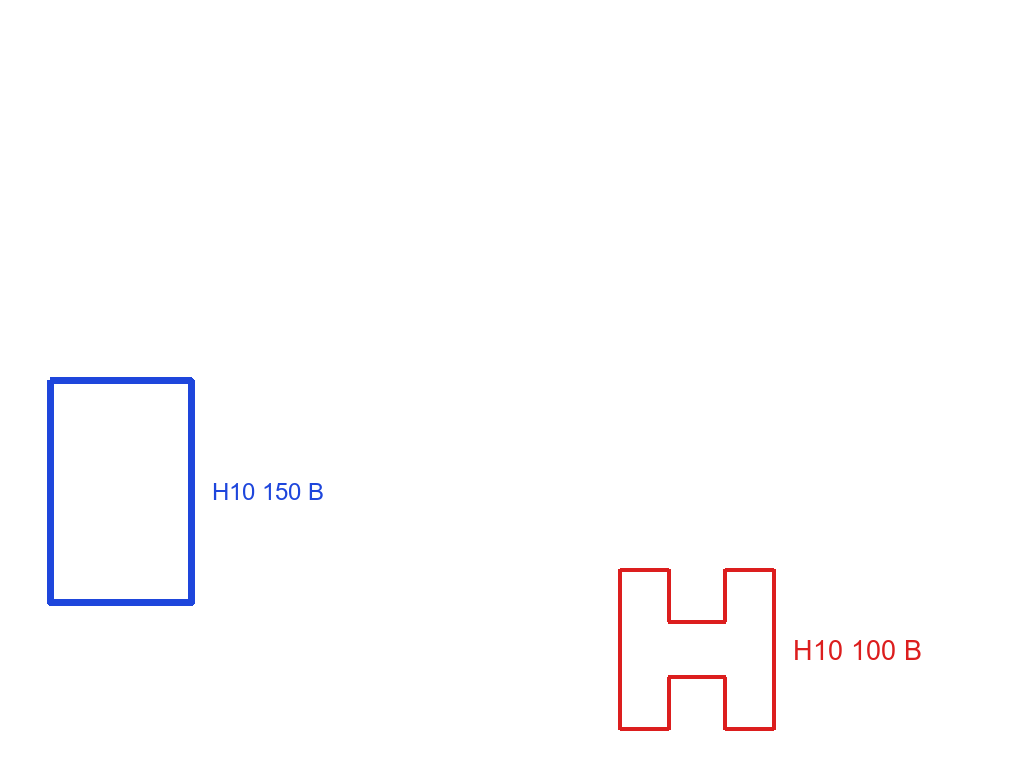shape: (45, 375, 197, 608), (616, 566, 777, 734)
text: (791, 638, 924, 662), (210, 481, 326, 502)
